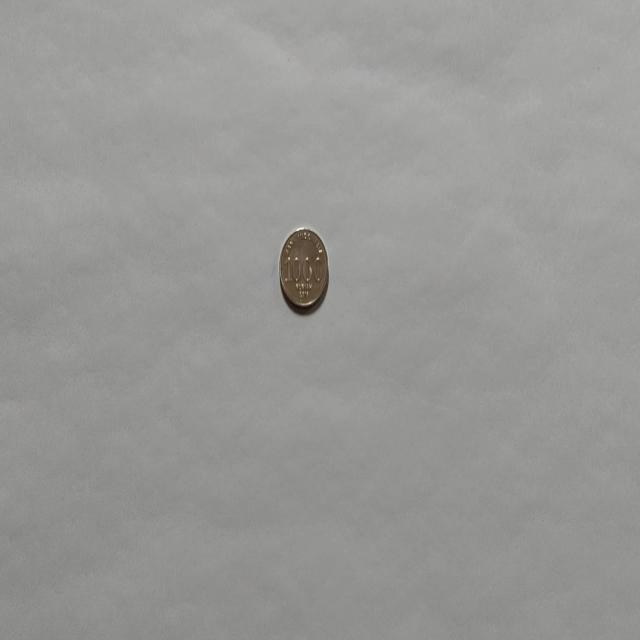seribu rupiah koin: (278, 225, 329, 311)
